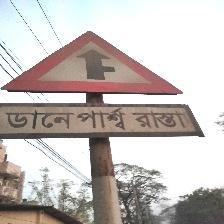Side-road-right: (0, 28, 206, 142)
